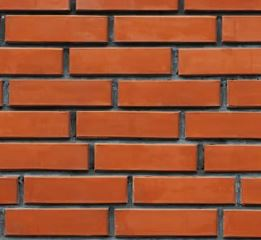brick: (22, 174, 129, 205), (3, 14, 109, 45), (75, 110, 180, 141), (67, 47, 174, 77), (112, 14, 218, 44), (93, 143, 199, 173), (3, 206, 109, 236), (7, 79, 114, 108), (132, 175, 237, 204), (117, 79, 222, 107), (114, 210, 219, 237), (176, 46, 261, 77), (1, 143, 92, 171), (184, 111, 261, 140), (1, 109, 71, 139), (1, 46, 65, 77), (203, 144, 261, 173), (220, 13, 261, 45), (223, 209, 261, 238), (226, 79, 261, 107), (75, 1, 179, 10), (183, 1, 261, 10), (240, 175, 261, 206), (1, 173, 19, 206), (1, 1, 71, 9)
